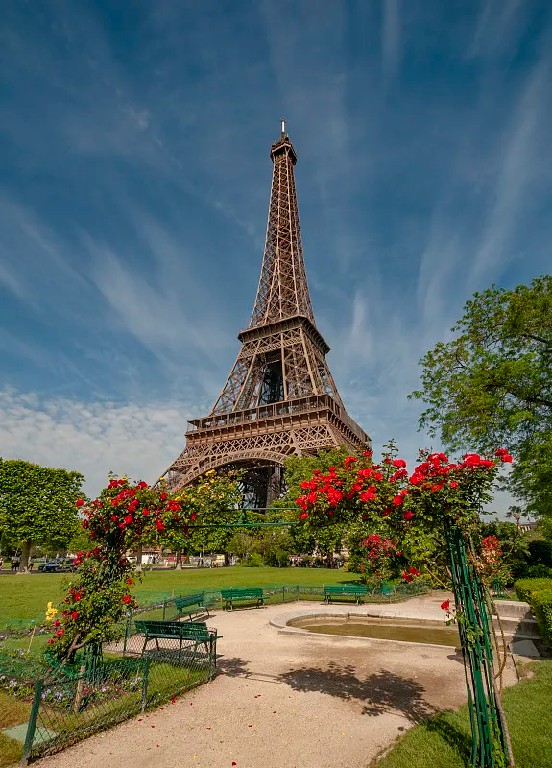Eiffel: (149, 117, 378, 514)
